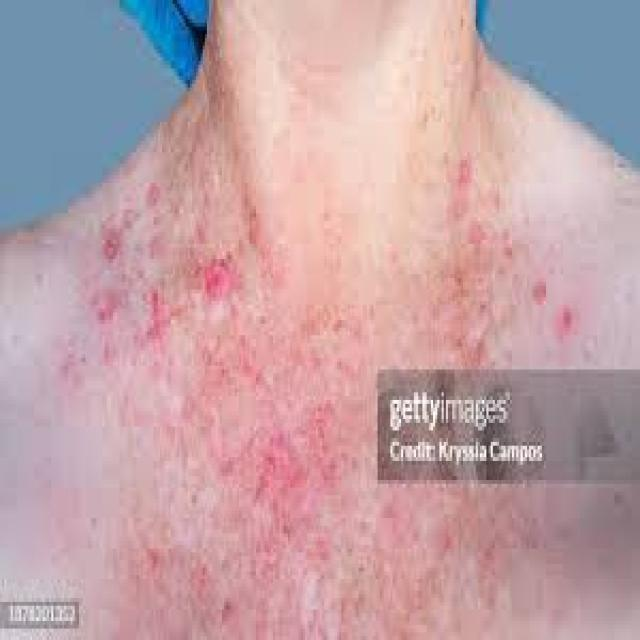Eczema: (64, 169, 572, 631)
